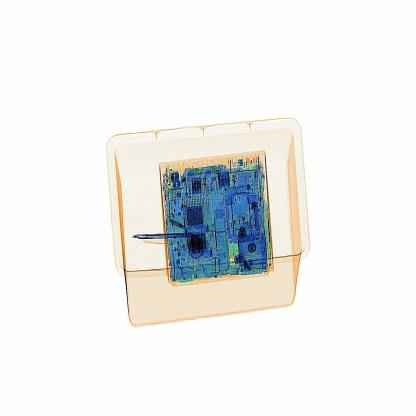pliers: (124, 229, 206, 250)
